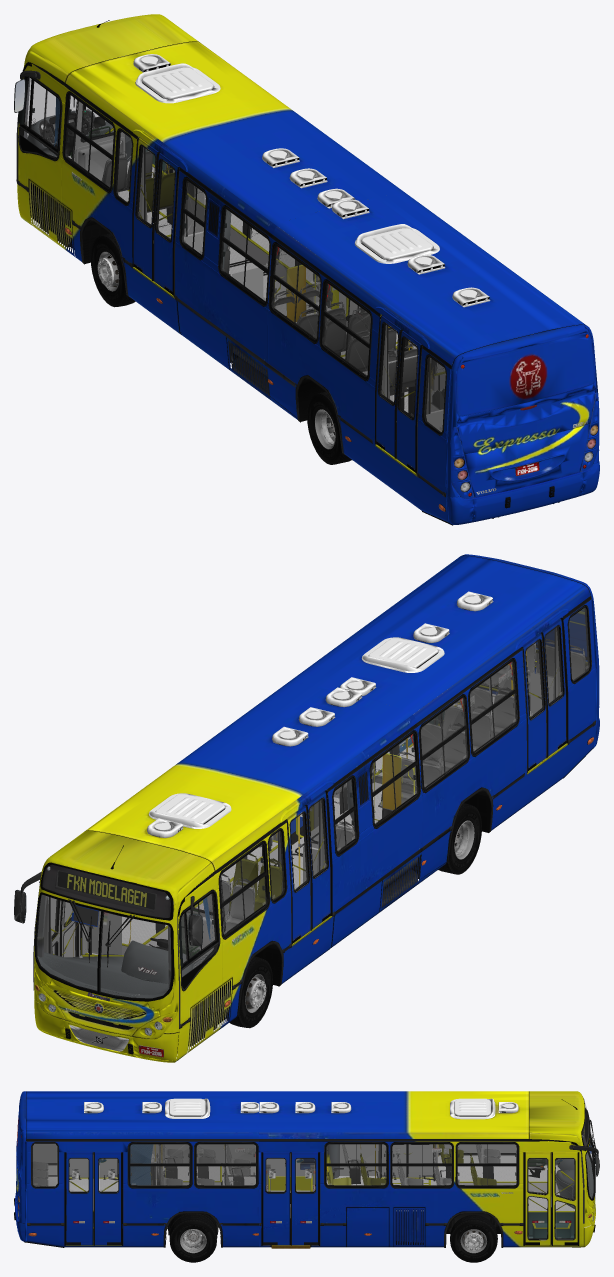
Rendered from bus_1d3201.glb.
The picture shows the model from 3 angles, top to bottom: view 1: azimuth 30°, elevation 25°; view 2: azimuth 150°, elevation 25°; view 3: azimuth 270°, elevation 25°; orthographic projection. The views are drawn at different scales.
Parts seen in each view (by area): view 1: body, wheel_fl, wheel_rl; view 2: body, wheel_fl, wheel_rl; view 3: body, wheel_fr, wheel_rr.
Part boxes in pixels (bbox=[...]): body: bbox=[14, 14, 599, 525]; wheel_fl: bbox=[90, 233, 135, 307]; wheel_rl: bbox=[307, 391, 352, 464]; body: bbox=[14, 554, 599, 1062]; wheel_fl: bbox=[226, 956, 272, 1028]; wheel_rl: bbox=[438, 803, 481, 874]; body: bbox=[14, 1091, 599, 1262]; wheel_fr: bbox=[450, 1215, 497, 1262]; wheel_rr: bbox=[169, 1213, 217, 1256].
Size of the model in its own units: 2.88 by 3.46 by 12.89.
40 materials, 37 textured.
